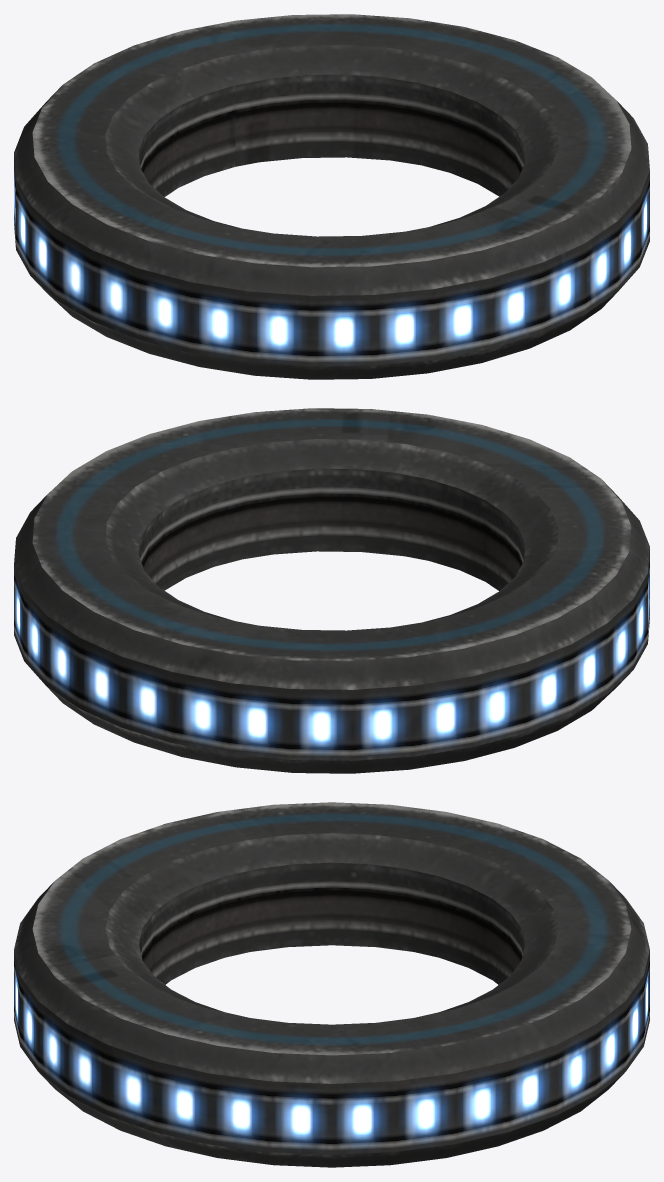
The model's file is ScifiResearchModule2.fbx.
3 renders of one model, top to bottom at view 1: azimuth 30°, elevation 25°; view 2: azimuth 150°, elevation 25°; view 3: azimuth 270°, elevation 25°, orthographic.
Parts seen in each view (by area): view 1: ScifiResearchModule2; view 2: ScifiResearchModule2; view 3: ScifiResearchModule2.
Part boxes in pixels (bbox=[...]): ScifiResearchModule2: bbox=[14, 14, 649, 379]; ScifiResearchModule2: bbox=[14, 408, 649, 773]; ScifiResearchModule2: bbox=[14, 802, 649, 1167].
Size of the model in its own units: 3373 by 657 by 3373.
